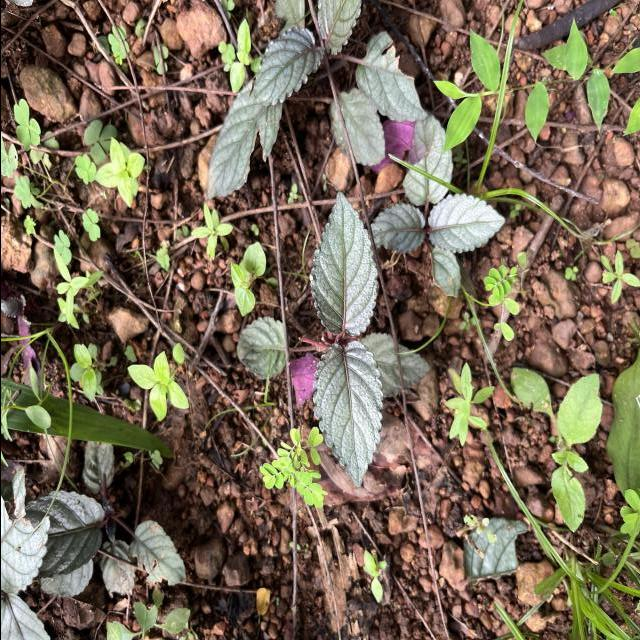Hemigraphis colorata: (308, 339, 384, 490), (308, 190, 378, 338), (204, 72, 284, 201), (252, 23, 325, 108), (426, 192, 506, 255), (401, 112, 454, 207), (368, 201, 426, 256)
